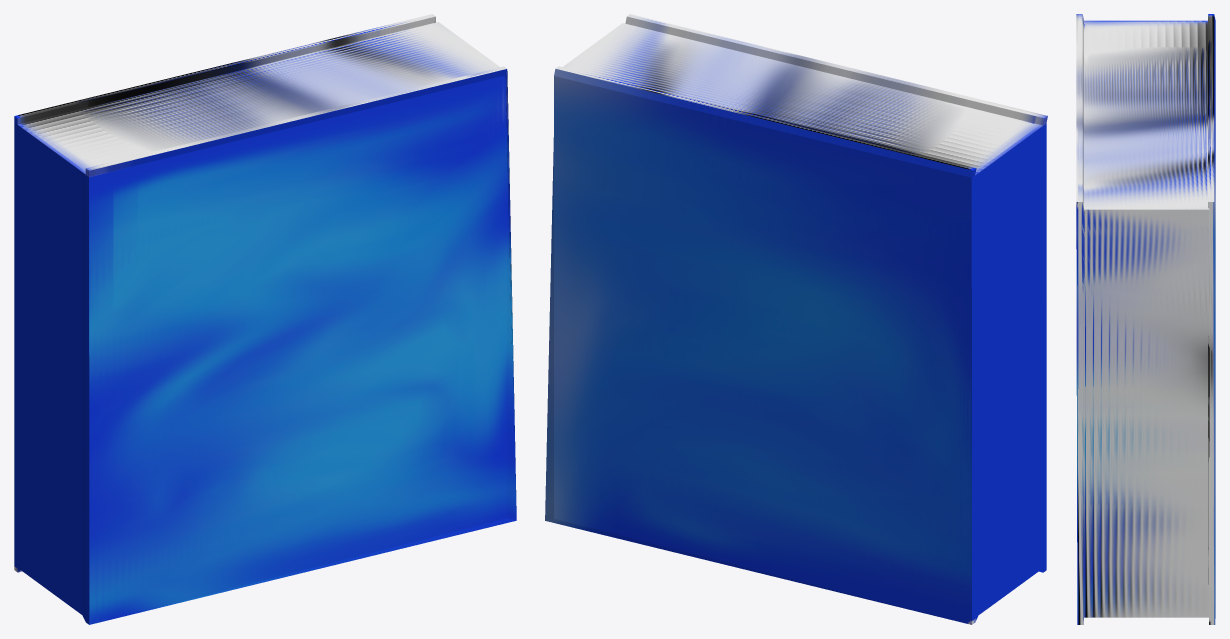
File: Book.fbx
3 views of the same model, side by side, from view 1: azimuth 30°, elevation 25°; view 2: azimuth 150°, elevation 25°; view 3: azimuth 270°, elevation 25° (orthographic). The views are drawn at different scales.
Parts seen in each view (by area): view 1: Cube; view 2: Cube; view 3: Cube.
Boxes of the visible parts, x1=… form: Cube: x1=14, y1=14, x2=516, y2=624; Cube: x1=545, y1=14, x2=1047, y2=624; Cube: x1=1076, y1=14, x2=1215, y2=624.
Size of the model in its own units: 71.73 by 72.79 by 21.94.
